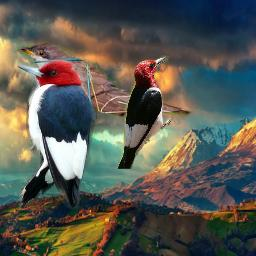Cuckoo: (15, 39, 195, 126)
Woodpecker: (16, 55, 97, 213), (115, 55, 171, 169)
